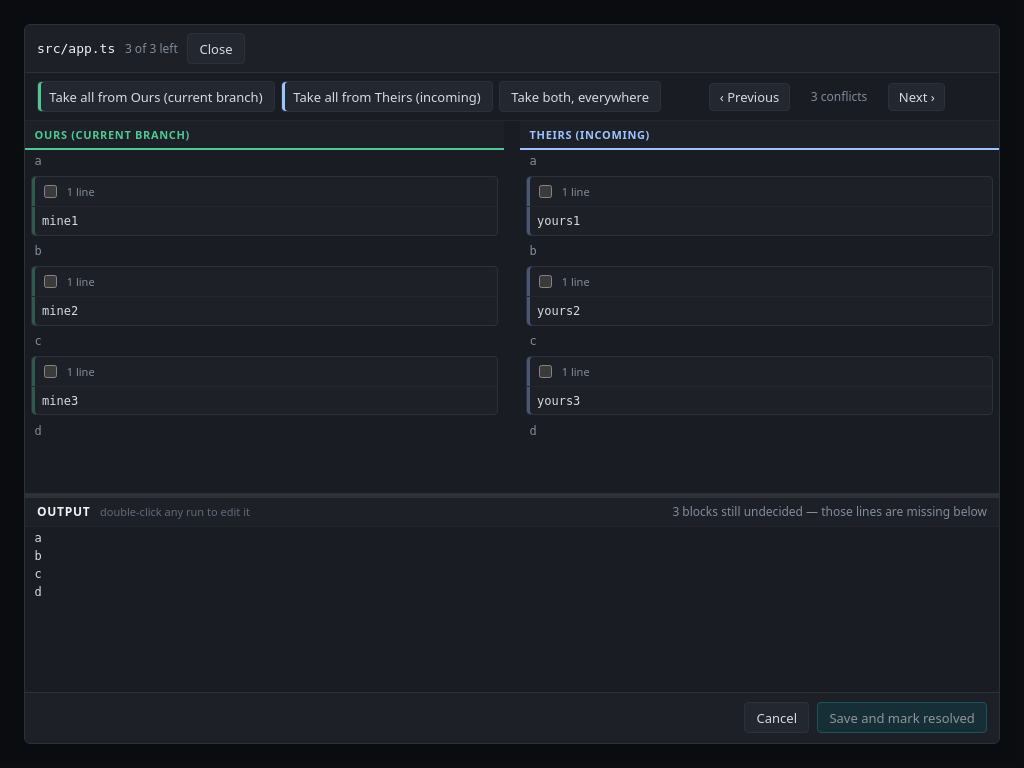
Test: choosing blocks › takes both sides of every block at once
Click the button "Take both, everywhere". click: (580, 97)
box: top-left (499, 81), bottom-right (661, 112)
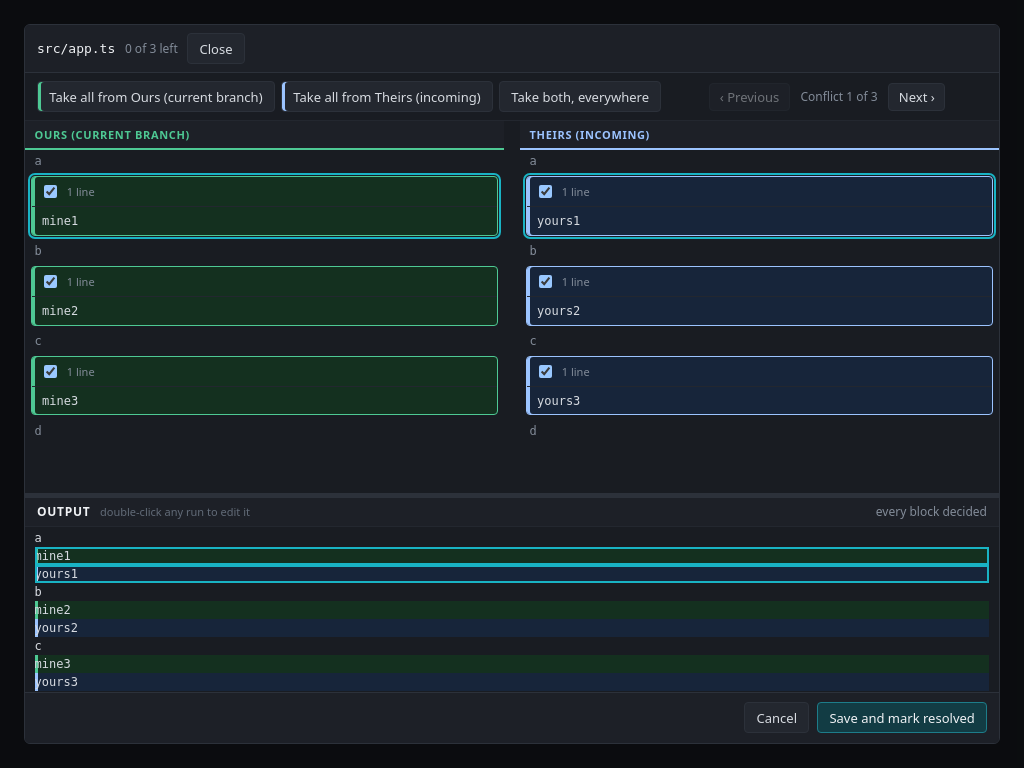
Result: the element labelled "Output" shows "mine1" at top-left (35, 549), bottom-right (71, 563)
Result: the element labelled "Output" shows "yours1" at top-left (35, 567), bottom-right (78, 581)
Result: the element labelled "Output" shows "mine2" at top-left (35, 603), bottom-right (71, 617)
